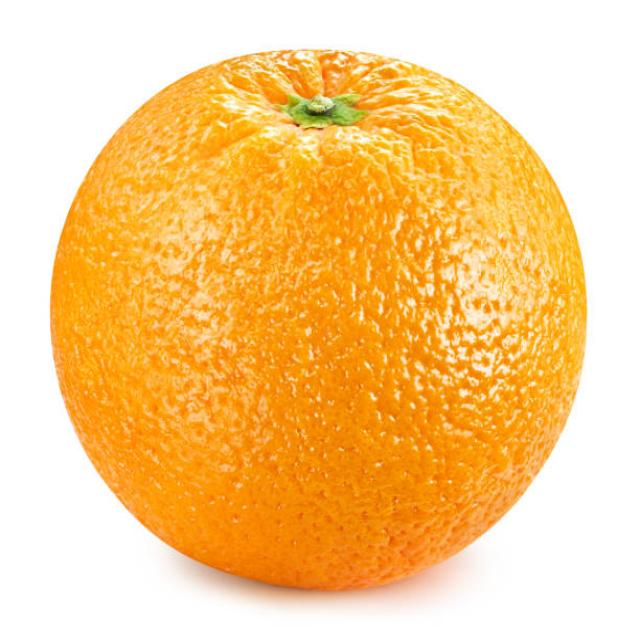Ripe: (40, 31, 593, 594)
